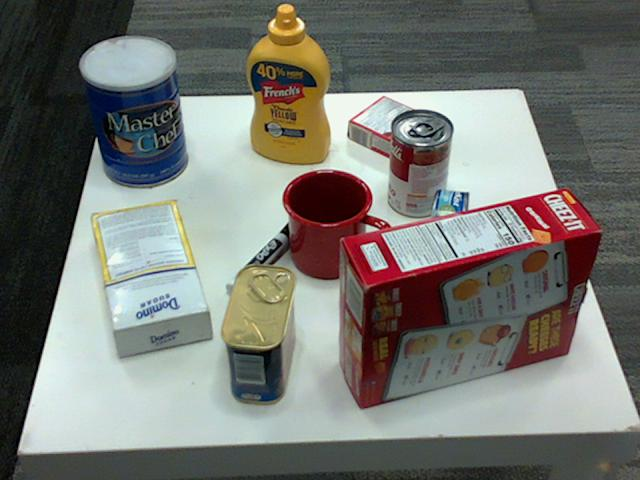cracker_box: (339, 186, 600, 406)
gelatin_box: (350, 95, 440, 161)
large_marker: (223, 222, 300, 302)
master_chef_can: (78, 37, 186, 188)
mug: (281, 166, 390, 276)
mustard_bottle: (245, 5, 330, 163)
potted_meat_can: (221, 264, 297, 404)
sugar_box: (90, 197, 210, 352)
tomato_soup_can: (386, 110, 452, 218)
tuna_fish_can: (425, 188, 469, 272)
